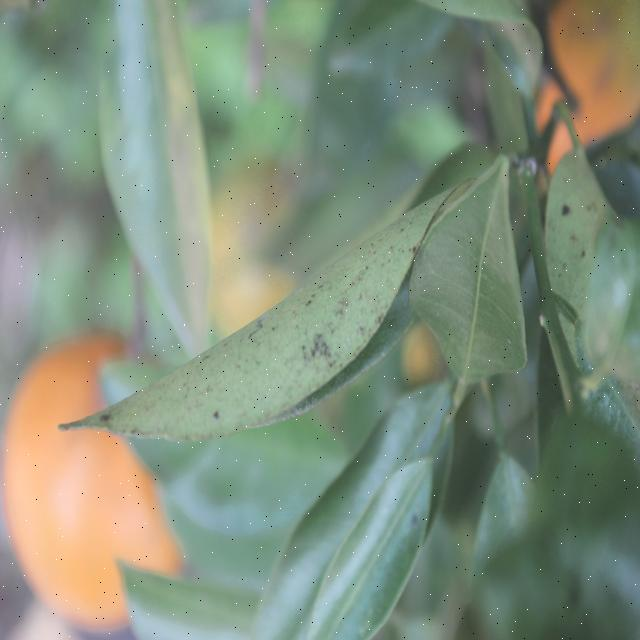melanose: (90, 181, 447, 457), (554, 158, 640, 378)
